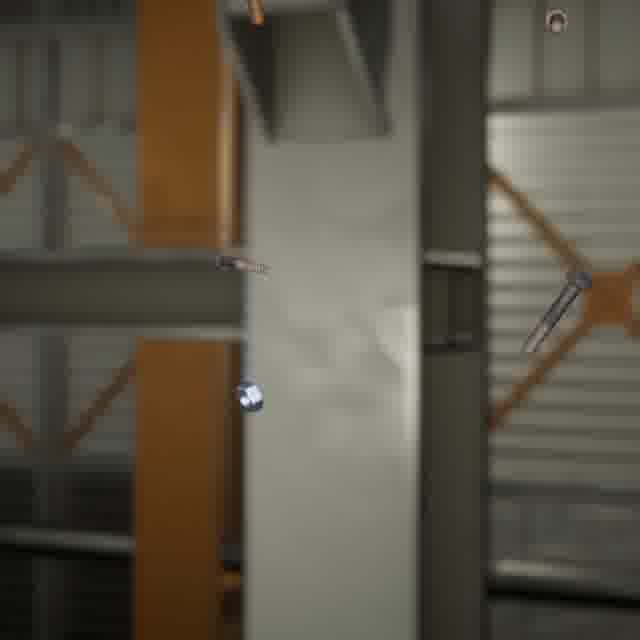bolt: (518, 263, 598, 358), (206, 245, 274, 278), (541, 3, 572, 39), (241, 0, 269, 30)
nut: (232, 377, 267, 417)
